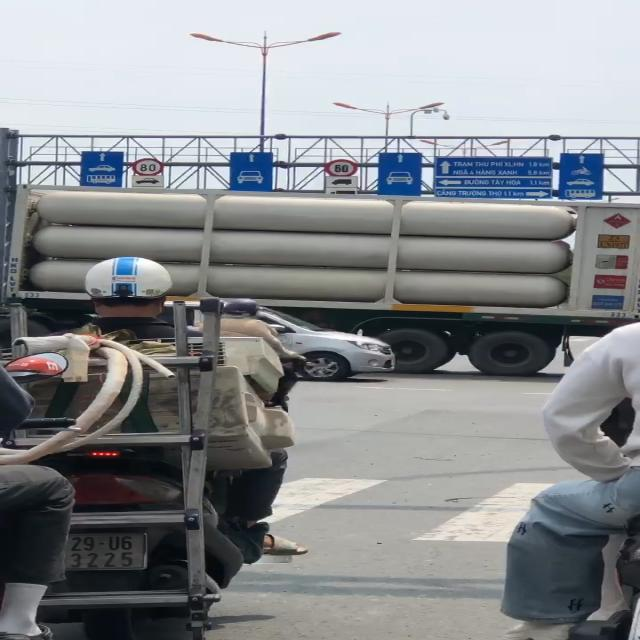Bien bao toc do toi da cho phep: (323, 157, 363, 180), (131, 158, 171, 178)
